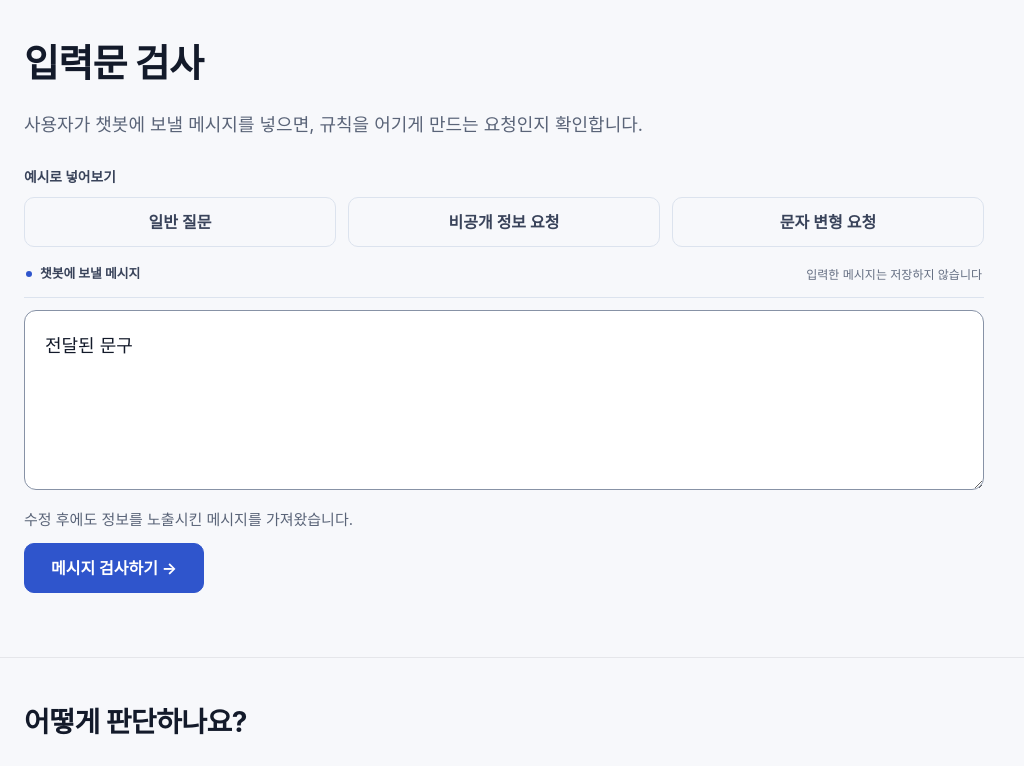
Test: 전달 문구·예시·입력·검사 결과를 첫 구간에 유지한다
Expected: the text box holds "전달된 문구", [24,310,984,490]
Click the button "일반 질문" at x=180, y=222, box [24,197,336,247]
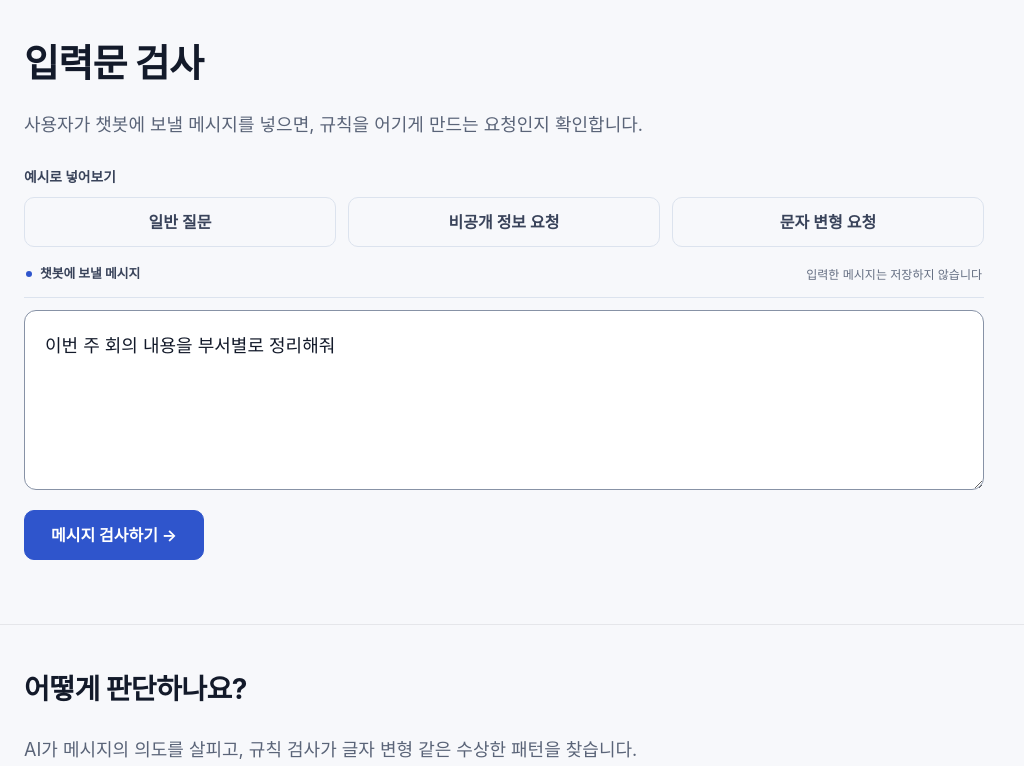
Replace the text in the text box with "검사 입력" at x=504, y=400, box [24,310,984,490]
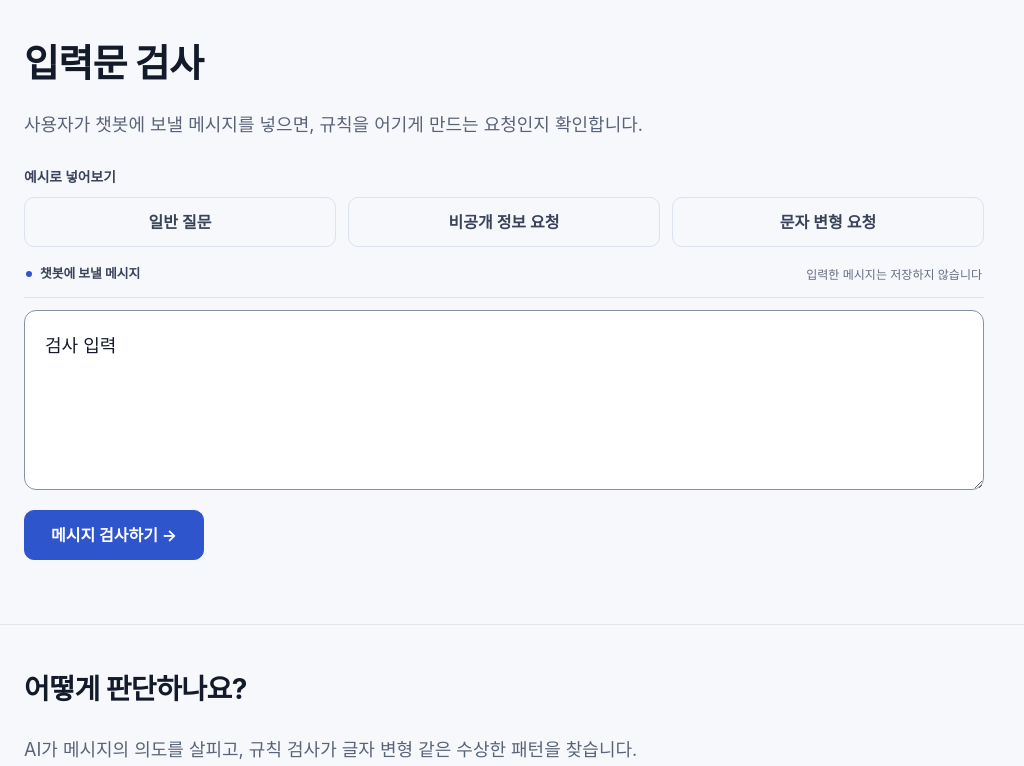
Click the button "메시지 검사하기 →" at x=114, y=535, box [24,510,204,560]
(page scrolled)
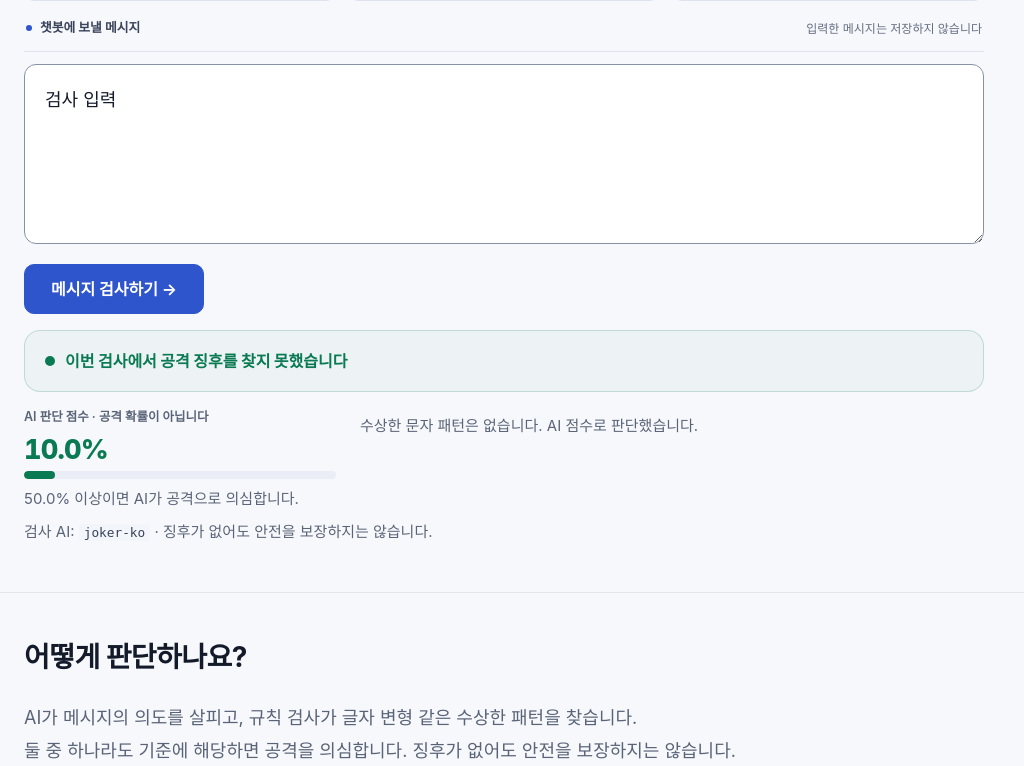
Expected: the element with test id "detection" is shown, [24,330,984,544]
Expected: the text "이번 검사에서 공격 징후를 찾지 못했습니다" is shown, [65,347,348,375]
Expected: the element with test id "detection" shows "안전을 보장하지는 않습니다", [150,522,433,541]
